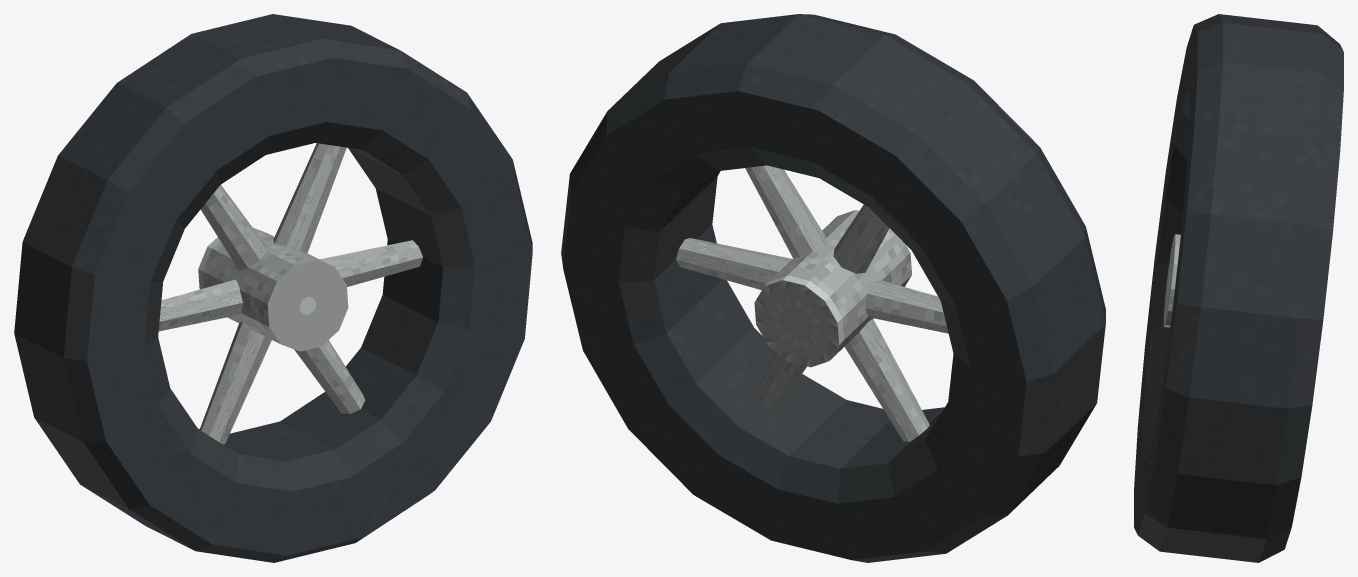
The model's file is wheel_slick.glb.
The picture shows the model from 3 angles, left to right: view 1: azimuth 30°, elevation 25°; view 2: azimuth 150°, elevation 25°; view 3: azimuth 270°, elevation 25°; orthographic projection. The views are drawn at different scales.
Visible parts, largest first — view 1: block_wheel cross section, block_radial spoke (×6), block_wheel hub; view 2: block_wheel cross section, block_radial spoke (×6), block_wheel hub; view 3: block_wheel cross section, block_wheel hub.
Part boxes in pixels (x1,y1,x2,y2): block_wheel cross section: (14, 14, 532, 562); block_radial spoke (×6): (158, 143, 422, 444); block_wheel hub: (198, 227, 348, 351); block_wheel cross section: (561, 14, 1105, 562); block_radial spoke (×6): (676, 165, 948, 441); block_wheel hub: (754, 210, 911, 367); block_wheel cross section: (1134, 14, 1343, 562); block_wheel hub: (1163, 234, 1180, 327).
Size of the model in its own units: 0.4025 by 0.4025 by 0.1556.
Materials: 1 (1 with a texture image).
